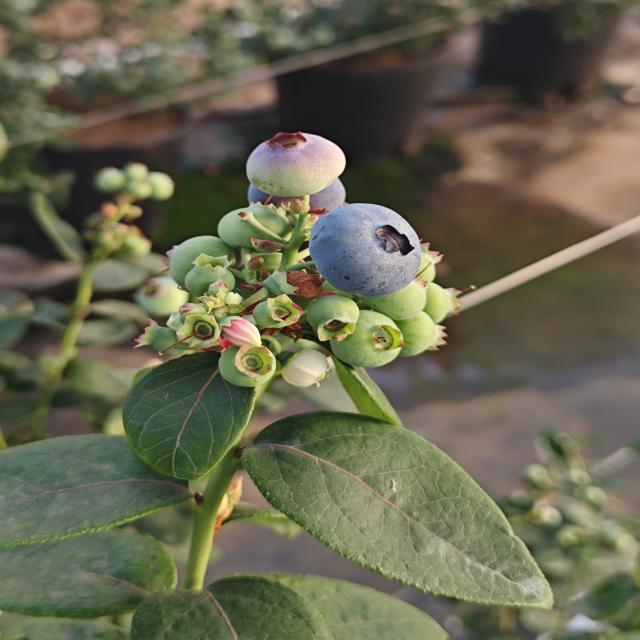ripe: (306, 207, 432, 299), (234, 167, 355, 219)
